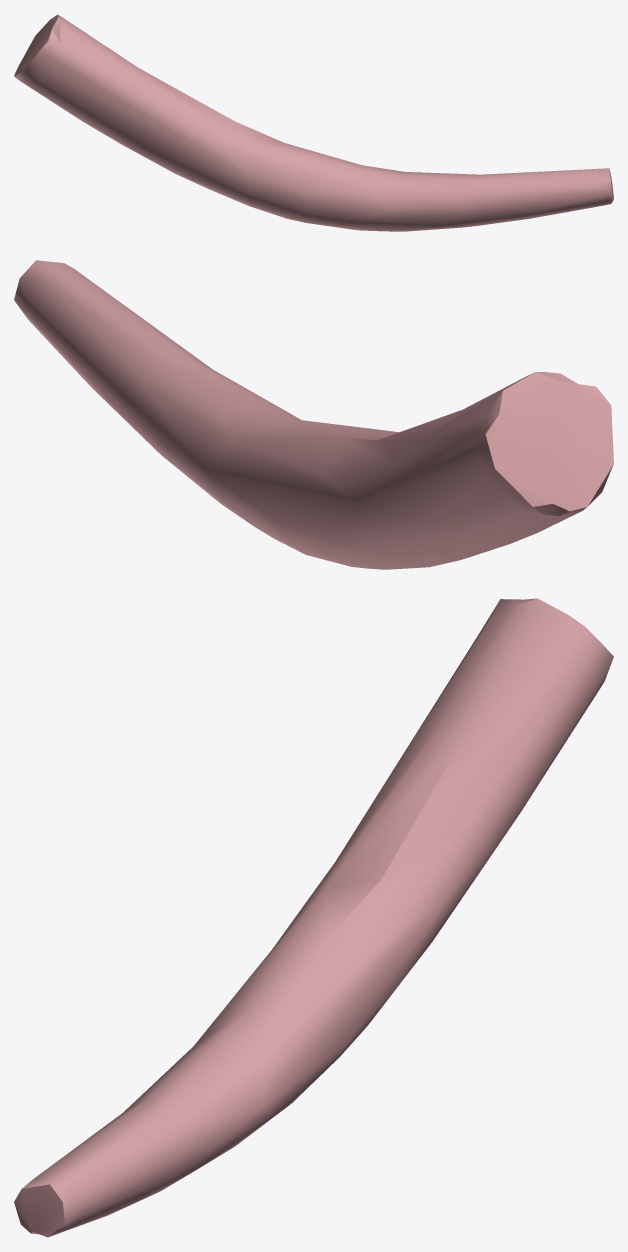
Rendered from fma68231_fj2535.glb.
3 renders of one model, top to bottom at view 1: azimuth 30°, elevation 25°; view 2: azimuth 150°, elevation 25°; view 3: azimuth 270°, elevation 25°, orthographic. The views are drawn at different scales.
Parts seen in each view (by area): view 1: FMA68231_FJ2535; view 2: FMA68231_FJ2535; view 3: FMA68231_FJ2535.
Part boxes in pixels (x1,y1,x2,y2): FMA68231_FJ2535: [14, 14, 613, 231]; FMA68231_FJ2535: [14, 260, 613, 569]; FMA68231_FJ2535: [14, 598, 613, 1237].
Bounding box in the file's own units: 0.0434 × 0.0185 × 0.0293.
